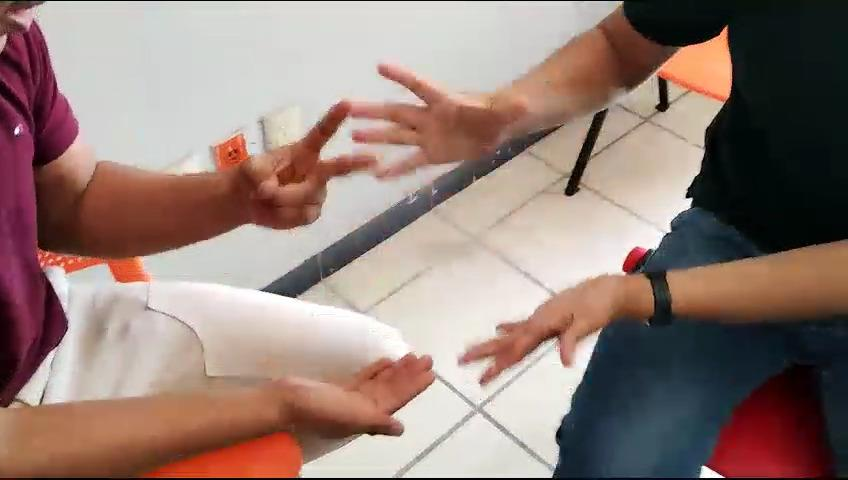Paper: (343, 58, 543, 192)
Scissor: (228, 98, 387, 238)
